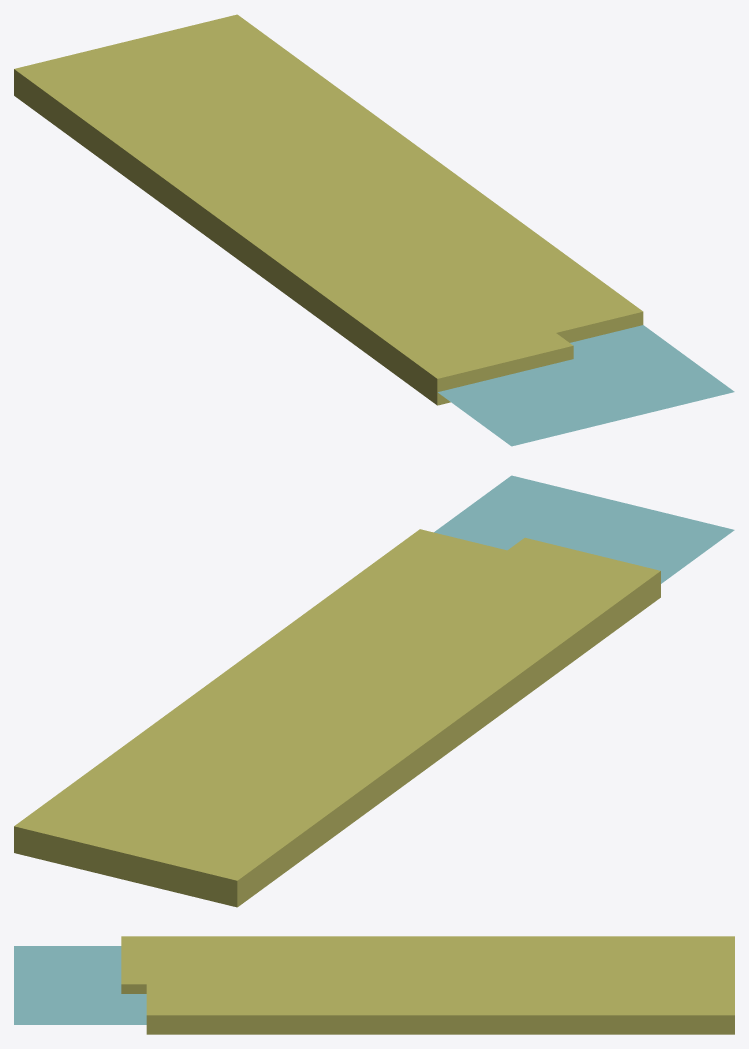
Rendered from Tile_Beach_03.fbx.
3 views of the same model, one above another, from view 1: azimuth 30°, elevation 25°; view 2: azimuth 150°, elevation 25°; view 3: azimuth 270°, elevation 25° (orthographic). The views are drawn at different scales.
Visible parts, largest first — view 1: Strand_03, Water3; view 2: Strand_03, Water3; view 3: Strand_03, Water3.
Boxes of the visible parts, bbox=[...] form: Strand_03: bbox=[14, 14, 643, 405]; Water3: bbox=[438, 325, 734, 446]; Strand_03: bbox=[14, 529, 660, 907]; Water3: bbox=[434, 475, 734, 583]; Strand_03: bbox=[121, 936, 734, 1034]; Water3: bbox=[14, 946, 146, 1024].
Bounding box in the file's own units: 35 × 4 × 135.
